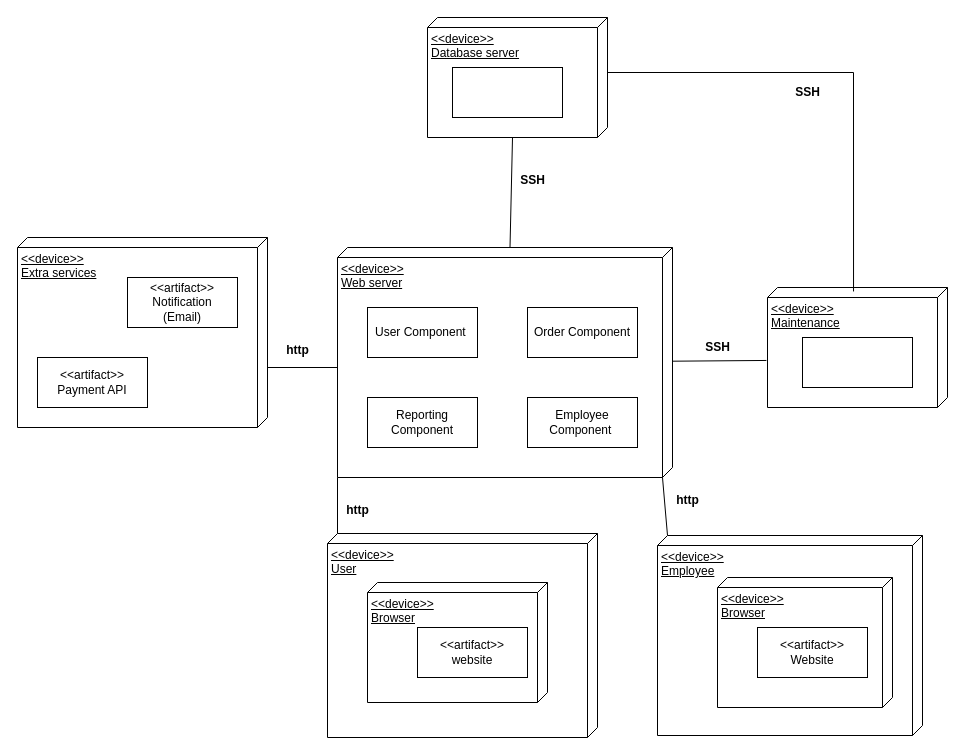
Some shapes in this 965 by 755 pixel diagram are drawn without their labels. Each missing label, with the centre of its shape:
<<artifact>> IDE: [857,362]
Data Storage: [507,92]
